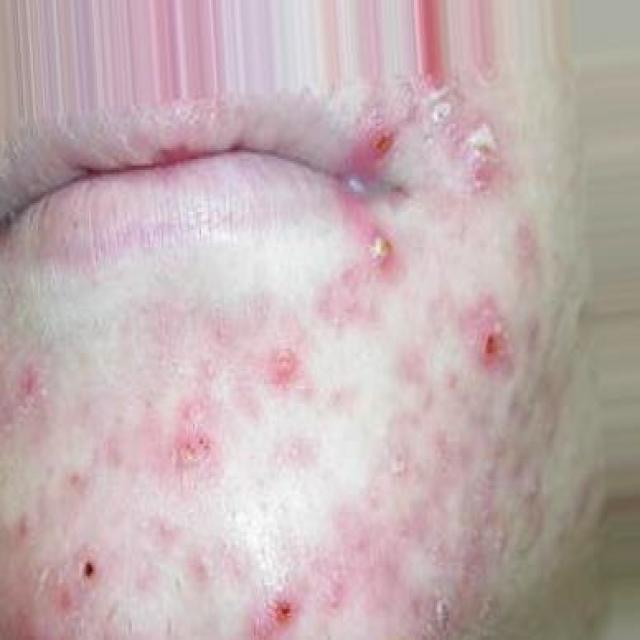acne: (236, 591, 330, 640), (460, 140, 532, 202), (505, 376, 564, 446), (326, 276, 388, 337), (188, 320, 244, 376), (466, 318, 523, 372), (348, 234, 412, 281), (417, 82, 468, 140), (517, 216, 556, 286), (276, 350, 332, 397), (152, 504, 202, 556), (419, 591, 472, 640), (172, 418, 218, 473), (476, 524, 555, 556), (5, 363, 53, 414), (387, 364, 437, 412), (65, 546, 114, 594), (366, 114, 406, 170), (62, 452, 100, 510), (2, 516, 56, 552), (518, 455, 552, 511), (380, 446, 422, 486), (430, 438, 472, 476), (189, 546, 217, 594), (444, 376, 486, 397)
